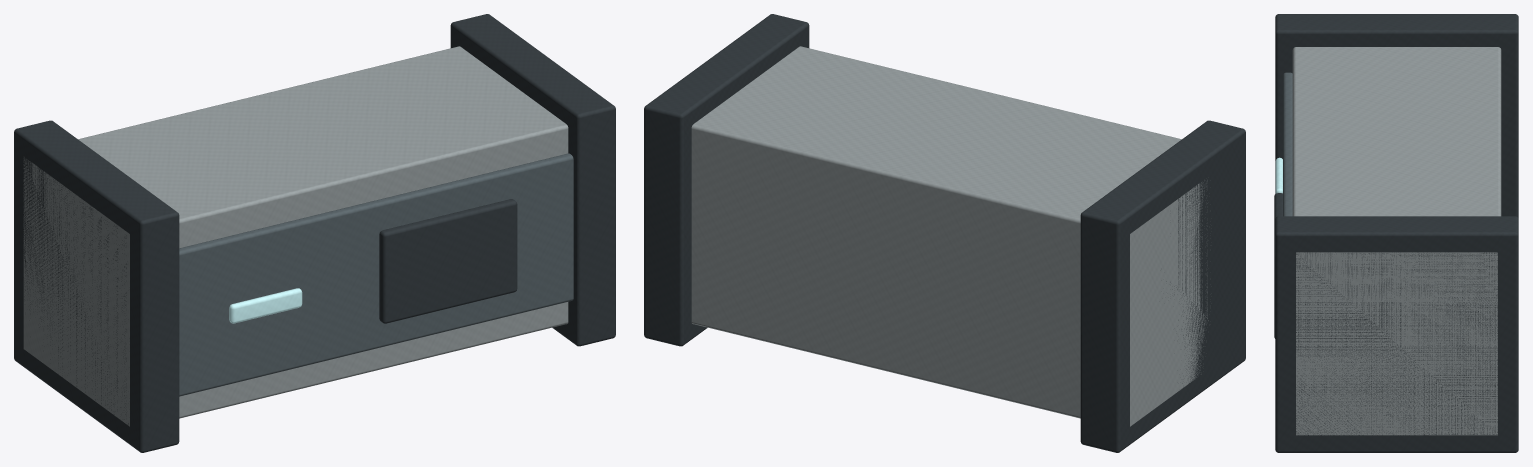
The model's file is VentilationDuct.glb.
3 views of the same model, side by side, from view 1: azimuth 30°, elevation 25°; view 2: azimuth 150°, elevation 25°; view 3: azimuth 270°, elevation 25° (orthographic). The views are drawn at different scales.
Parts seen in each view (by area): view 1: VentilationDuct_Mesh; view 2: VentilationDuct_Mesh; view 3: VentilationDuct_Mesh.
Boxes of the visible parts, x1=… form: VentilationDuct_Mesh: x1=14, y1=14, x2=615, y2=452; VentilationDuct_Mesh: x1=644, y1=14, x2=1245, y2=452; VentilationDuct_Mesh: x1=1274, y1=14, x2=1518, y2=452.
Size of the model in its own units: 1.2 by 0.56 by 0.5625.
4 materials, 4 textured.
